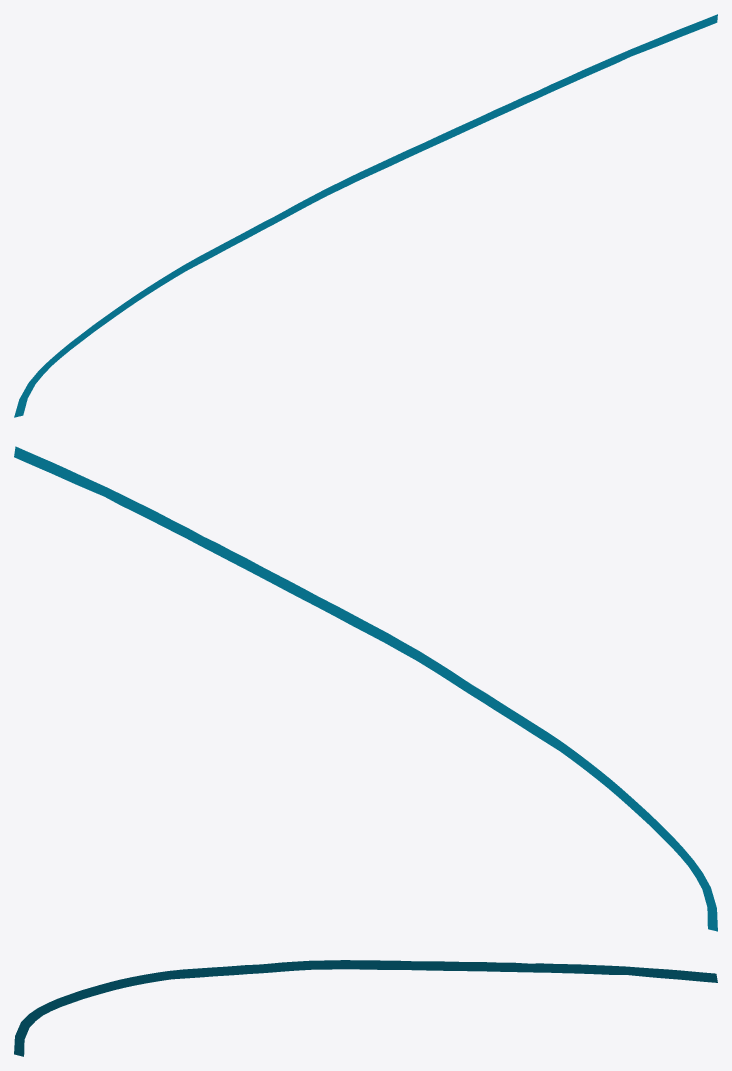
The model's file is curva corteza.fbx.
The picture shows the model from 3 angles, top to bottom: view 1: azimuth 30°, elevation 25°; view 2: azimuth 150°, elevation 25°; view 3: azimuth 330°, elevation 25°; orthographic projection. The views are drawn at different scales.
Visible parts, largest first — view 1: polySurface74; view 2: polySurface74; view 3: polySurface74.
Part boxes in pixels (bbox=[...]): polySurface74: bbox=[14, 14, 717, 417]; polySurface74: bbox=[14, 446, 717, 931]; polySurface74: bbox=[14, 960, 717, 1056].
Bounding box in the file's own units: 13.36 × 4.92 × 0.9966.
